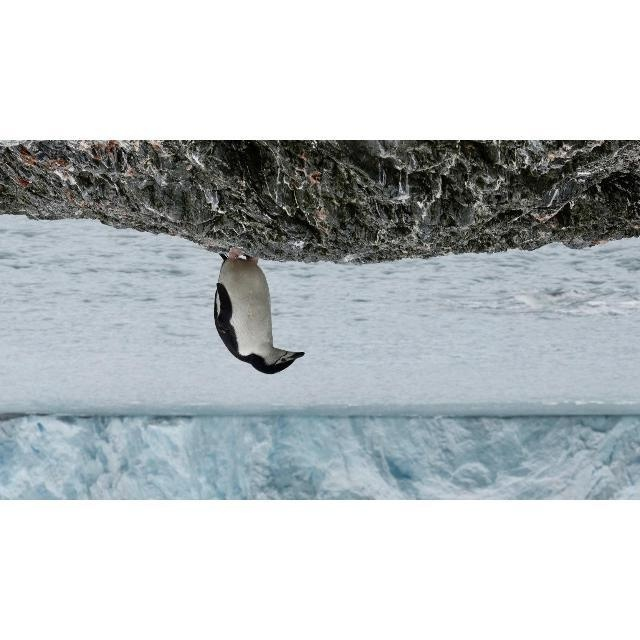penguin: (209, 245, 305, 375)
